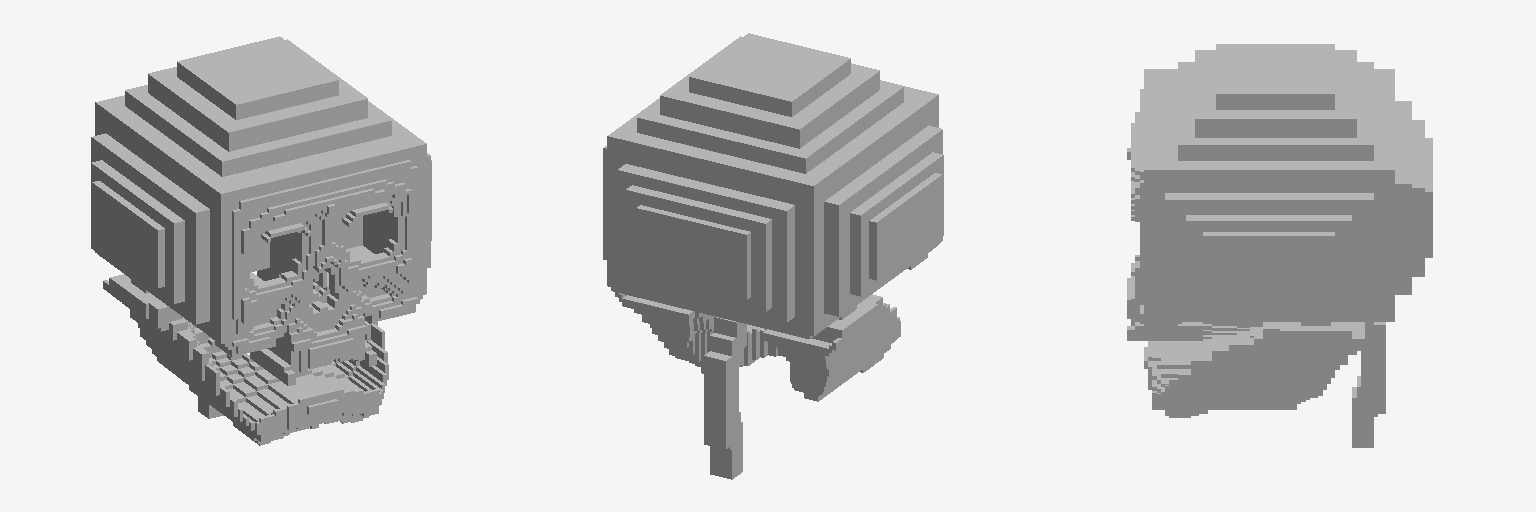
The model's file is Bone.obj.
The picture shows the model from 3 angles: view 1: azimuth 30°, elevation 25°; view 2: azimuth 150°, elevation 25°; view 3: azimuth 270°, elevation 25°; orthographic projection.
Parts seen in each view (by area): view 1: Bone; view 2: Bone; view 3: Bone.
Part boxes in pixels (x1,y1,x2,y2): Bone: (91, 36, 431, 445); Bone: (603, 33, 943, 479); Bone: (1127, 44, 1432, 447).
Bounding box in the file's own units: 74 × 97 × 72.